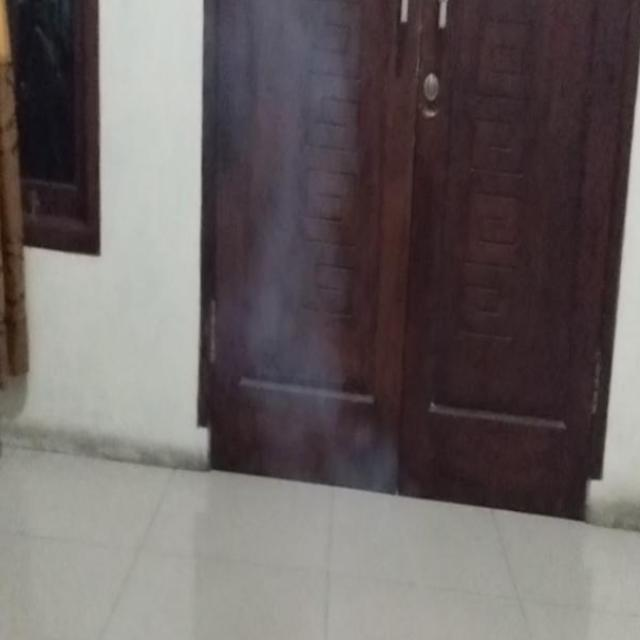fire: (216, 0, 342, 423)
